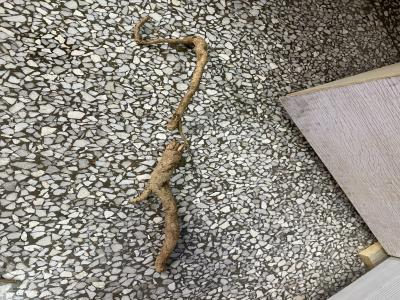Root: (129, 16, 208, 273)
